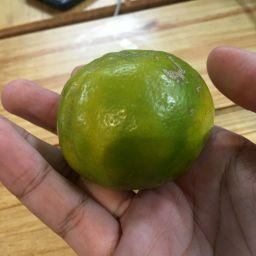Unripe: (57, 49, 214, 184)
